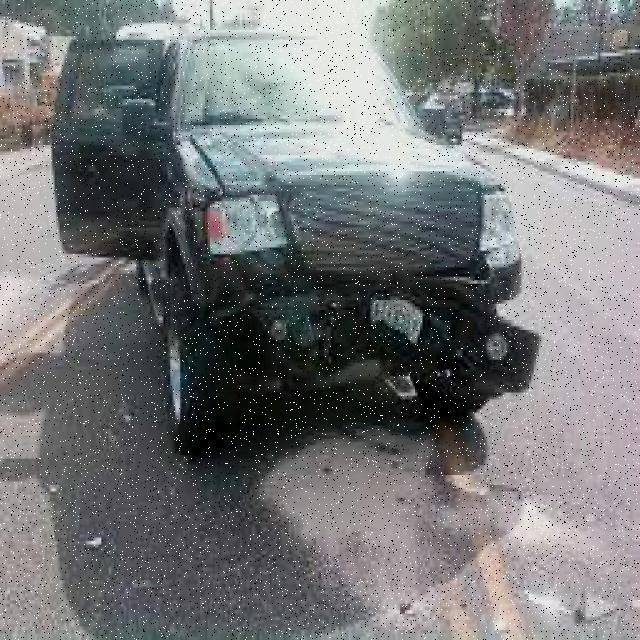car damage: (201, 246, 544, 405)
